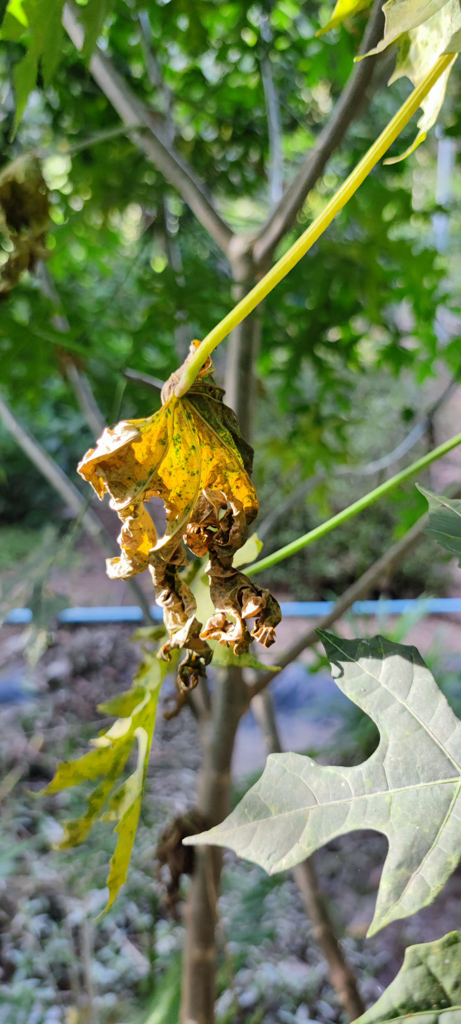Pepper yellow leaf: (74, 353, 303, 726)
